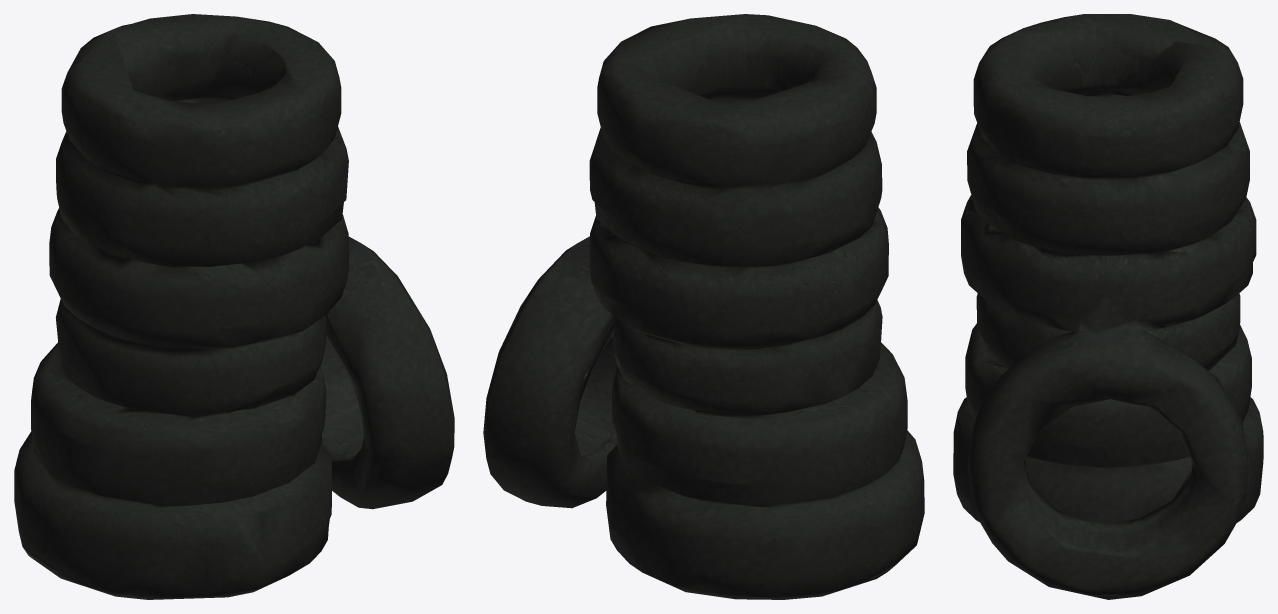
File: tyres.glb
3 renders of one model, left to right at view 1: azimuth 30°, elevation 25°; view 2: azimuth 150°, elevation 25°; view 3: azimuth 270°, elevation 25°, orthographic. The views are drawn at different scales.
Bounding box in the file's own units: 1.57 × 1.9 × 1.18.
1 material, 1 textured.
